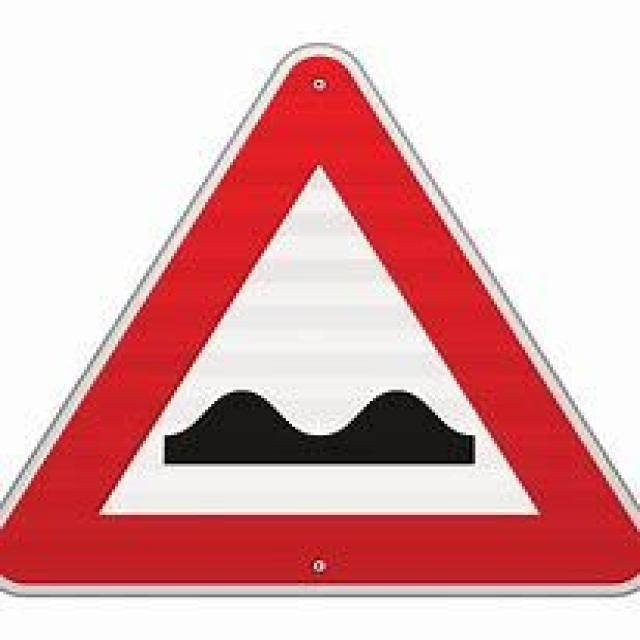hump or rough road: (29, 52, 623, 591)
